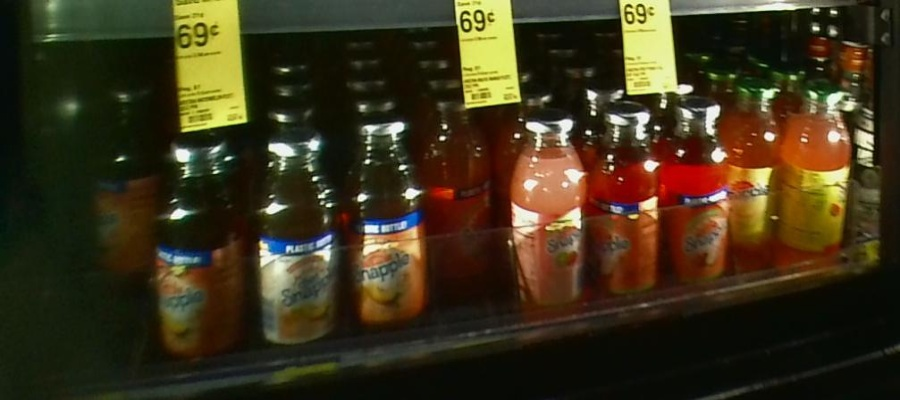bottle: (248, 129, 343, 368), (156, 132, 246, 370), (503, 109, 591, 328), (346, 124, 426, 345), (85, 77, 152, 299), (663, 90, 731, 306), (593, 105, 662, 312), (783, 67, 850, 280), (426, 93, 493, 303), (731, 76, 779, 279)
